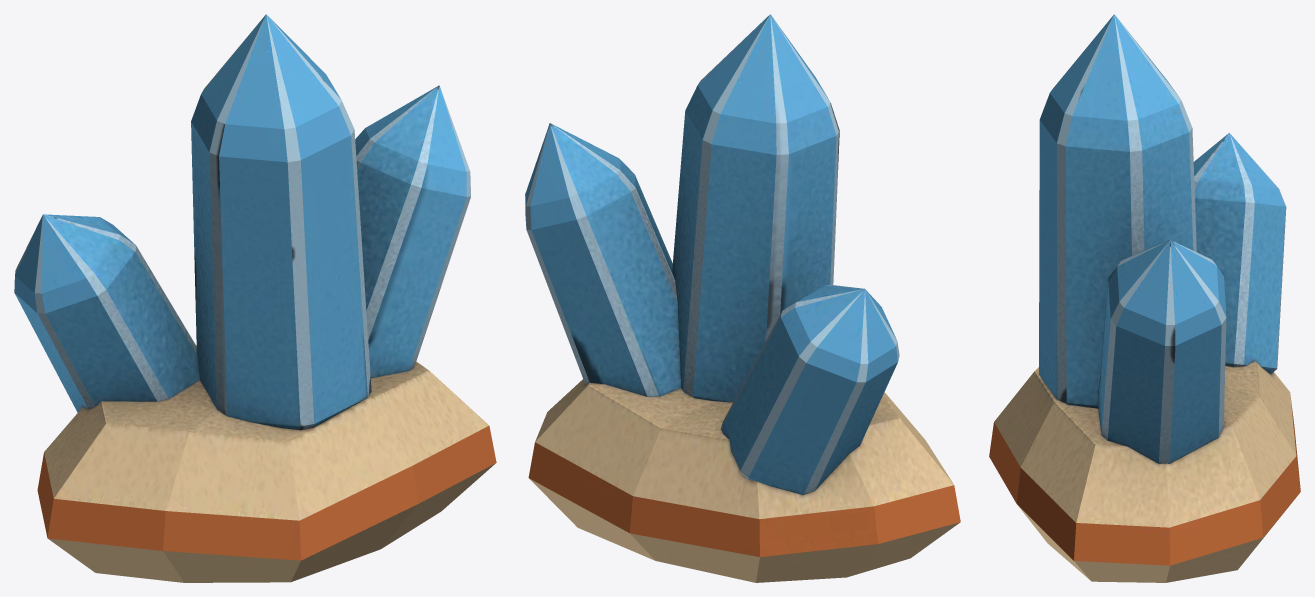
3 views of the same model, side by side, from view 1: azimuth 30°, elevation 25°; view 2: azimuth 150°, elevation 25°; view 3: azimuth 270°, elevation 25° (orthographic). The views are drawn at different scales.
Parts seen in each view (by area): view 1: Polished_sky_blue_crystal, Warm_dust_sandstone, Pale_blue_crystal_bevels, Canyon_orange_strata; view 2: Polished_sky_blue_crystal, Warm_dust_sandstone, Pale_blue_crystal_bevels, Canyon_orange_strata; view 3: Polished_sky_blue_crystal, Warm_dust_sandstone, Pale_blue_crystal_bevels, Canyon_orange_strata.
Boxes of the visible parts, x1,y1,x2,y2 form: Polished_sky_blue_crystal: (14, 14, 466, 430); Warm_dust_sandstone: (44, 345, 495, 582); Pale_blue_crystal_bevels: (15, 15, 470, 430); Canyon_orange_strata: (37, 426, 496, 560); Polished_sky_blue_crystal: (525, 14, 897, 494); Warm_dust_sandstone: (529, 379, 959, 582); Pale_blue_crystal_bevels: (526, 14, 899, 494); Canyon_orange_strata: (528, 442, 960, 556); Polished_sky_blue_crystal: (1039, 14, 1285, 463); Warm_dust_sandstone: (994, 361, 1296, 582); Pale_blue_crystal_bevels: (1051, 15, 1286, 463); Canyon_orange_strata: (989, 395, 1300, 565).
Bounding box in the file's own units: 0.8476 × 0.9786 × 0.5604.
Materials: 4 (4 with a texture image).
